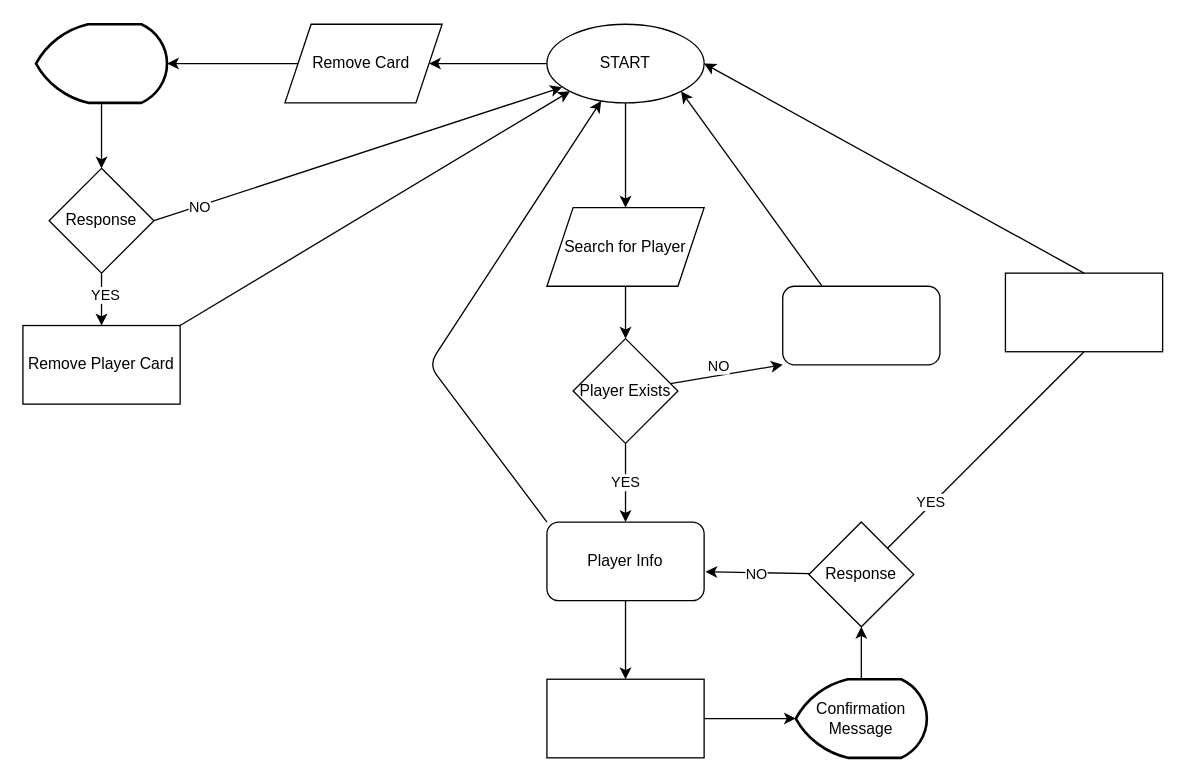
The diagram is 1196 pixels wide and 781 high, and some of its shapes have lost their labels. The shapes that lost their labels are listed below. From the top down, each one's centre as x and y in pixels, then its label:
At point 101,62: "Confirmation Msg".
At point 860,325: "Not found message".
At point 1083,312: "Player Card Added".
At point 625,718: "Add player gallery/dashboard".
